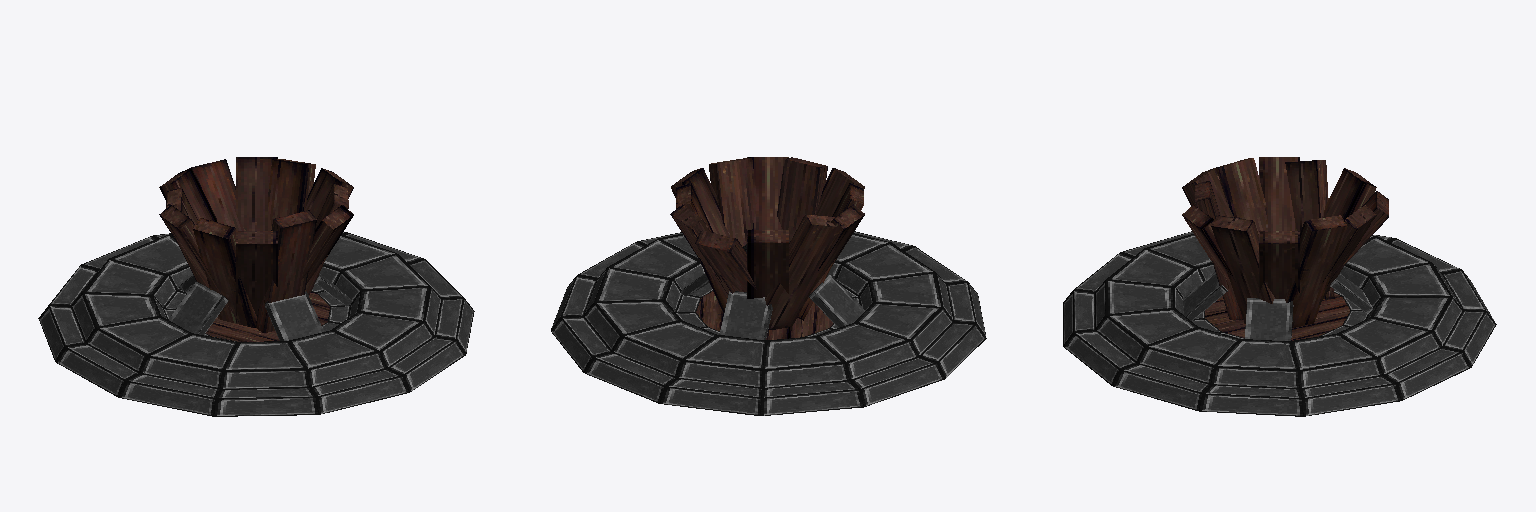
3 views of the same model, side by side, from view 1: azimuth 30°, elevation 25°; view 2: azimuth 150°, elevation 25°; view 3: azimuth 270°, elevation 25° (orthographic).
Parts seen in each view (by area): view 1: Cube.011; view 2: Cube.011; view 3: Cube.011.
Part boxes in pixels (x1,y1,x2,y2): Cube.011: (38,157,474,416); Cube.011: (551,157,986,415); Cube.011: (1063,157,1496,416).
Size of the model in its own units: 6.3 by 2.19 by 6.25.
3 materials, 3 textured.